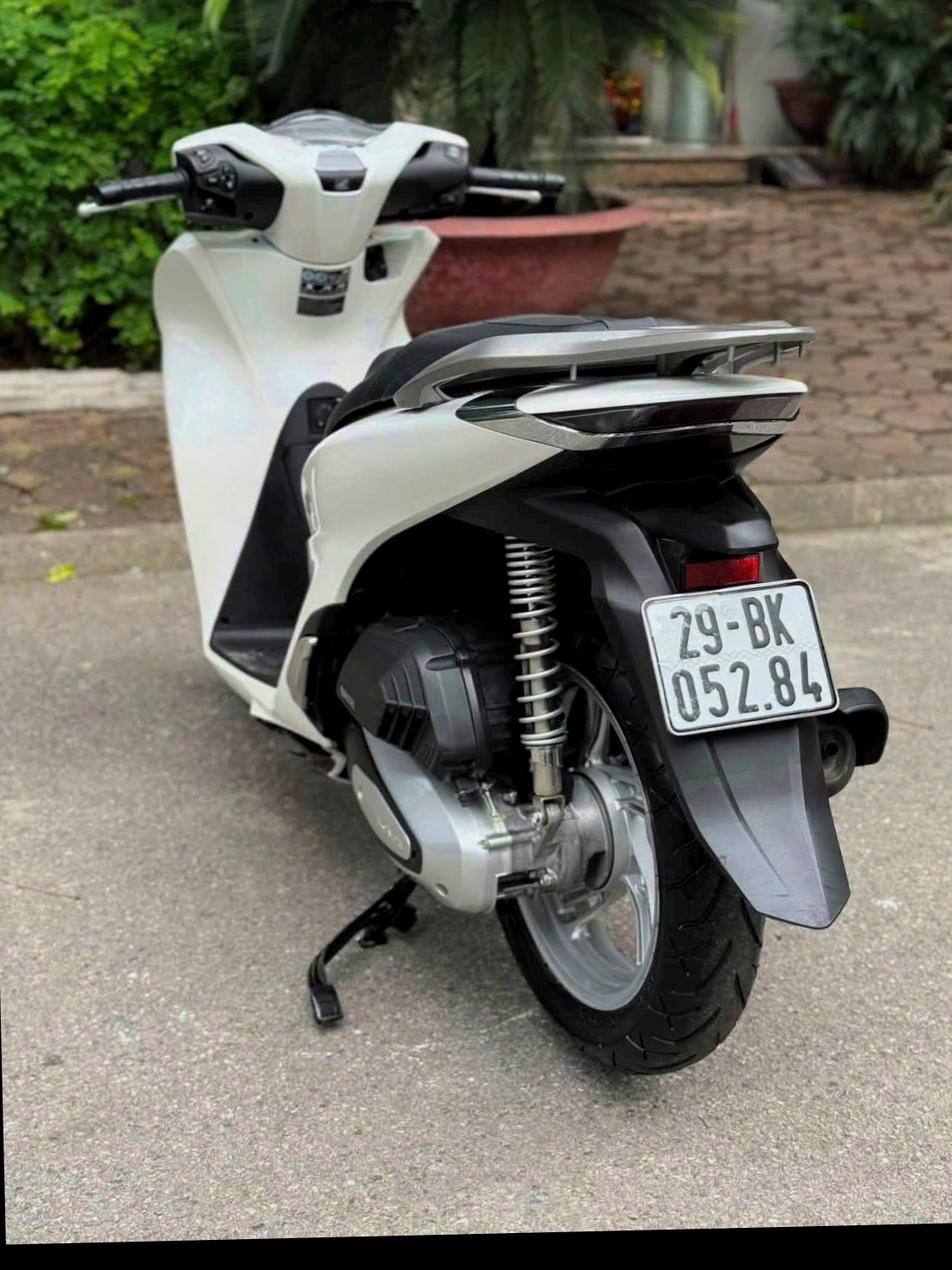Bien-so: (643, 571, 846, 744)
